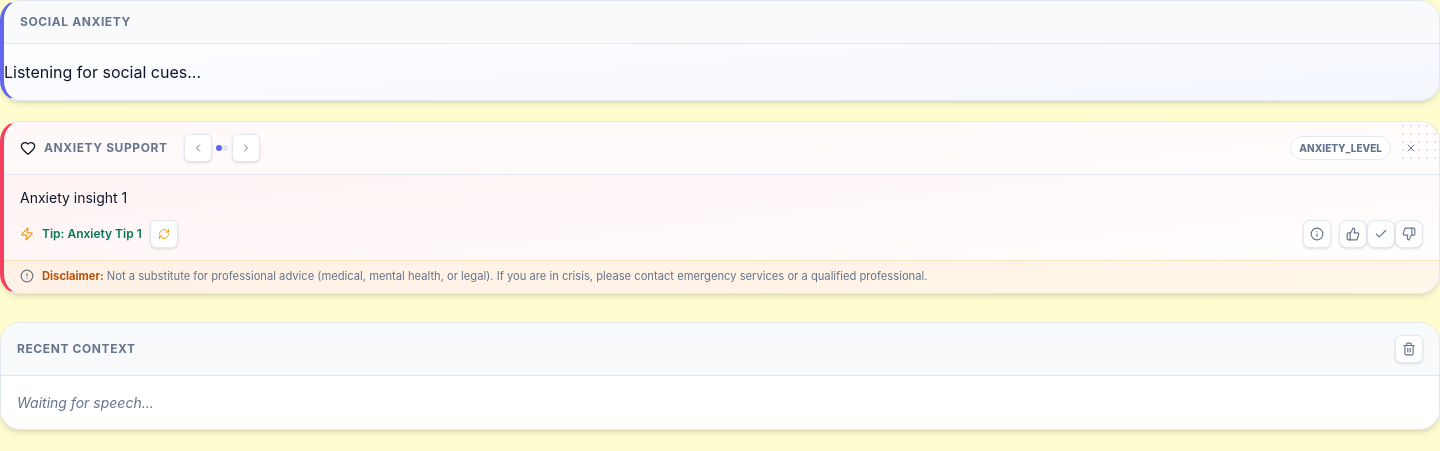
Test: CoachingInsights functionality › maintains separate coping indices for different insights
Expected: the text "Anxiety insight 1" is shown, [20,189,127,206]
Expected: the text "Tip: Anxiety Tip 1" is shown, [42,225,142,243]
Note: Navigate to next coping tip for anxiety insight
Click the button named "Next tip".
click(164, 234)  # box [150,220,178,248]
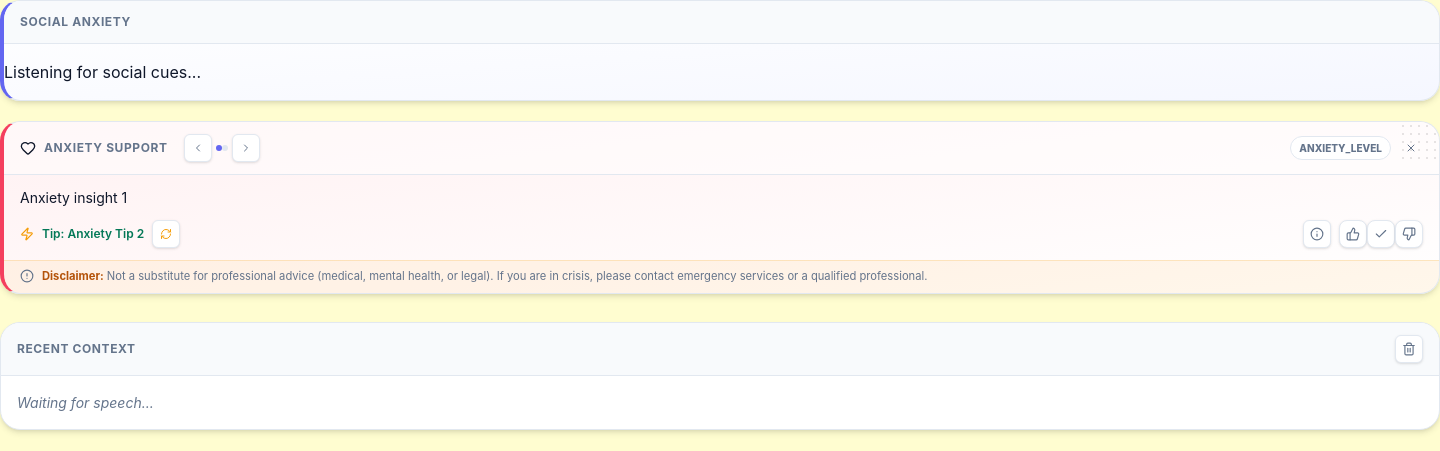
Result: the text "Tip: Anxiety Tip 2" is shown at [42,225,144,243]
Note: Navigate to next insight (should still show anxiety insight 2)
Click the button named "Next insight".
click(246, 148)  # box [232,134,260,162]
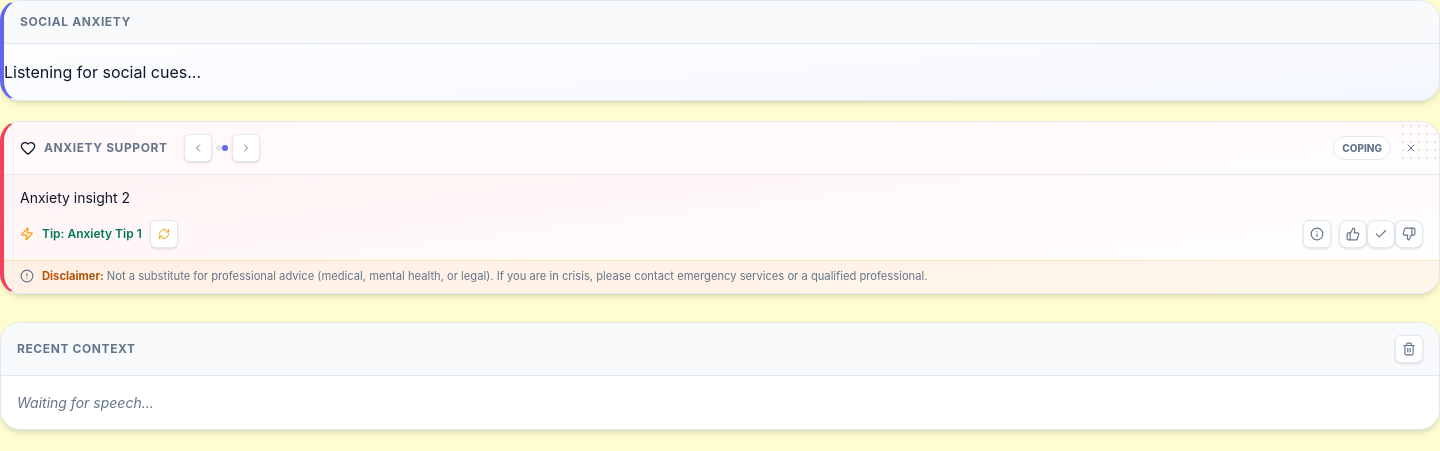
Result: the text "Anxiety insight 2" is shown at [20,189,130,206]
Result: the text "Tip: Anxiety Tip 1" is shown at [42,225,142,243]
Note: Navigate to next coping tip for anxiety insight 2
Click the button named "Next tip".
click(164, 234)  # box [150,220,178,248]
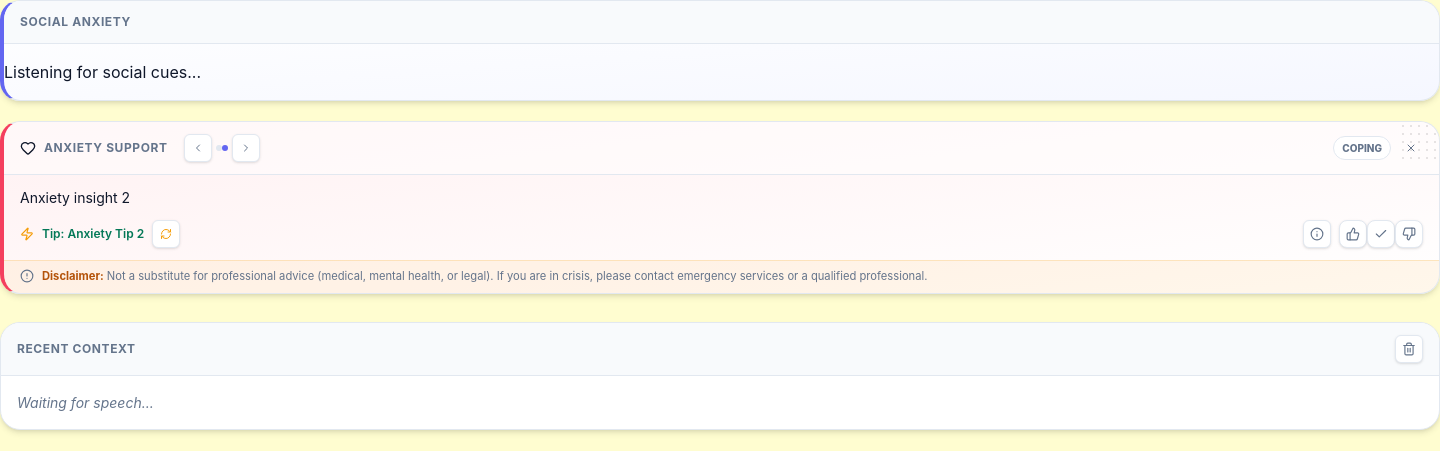
Result: the text "Tip: Anxiety Tip 2" is shown at [42,225,144,243]
Note: Go back to first insight
Click the button named "Previous insight".
click(198, 148)  # box [184,134,212,162]
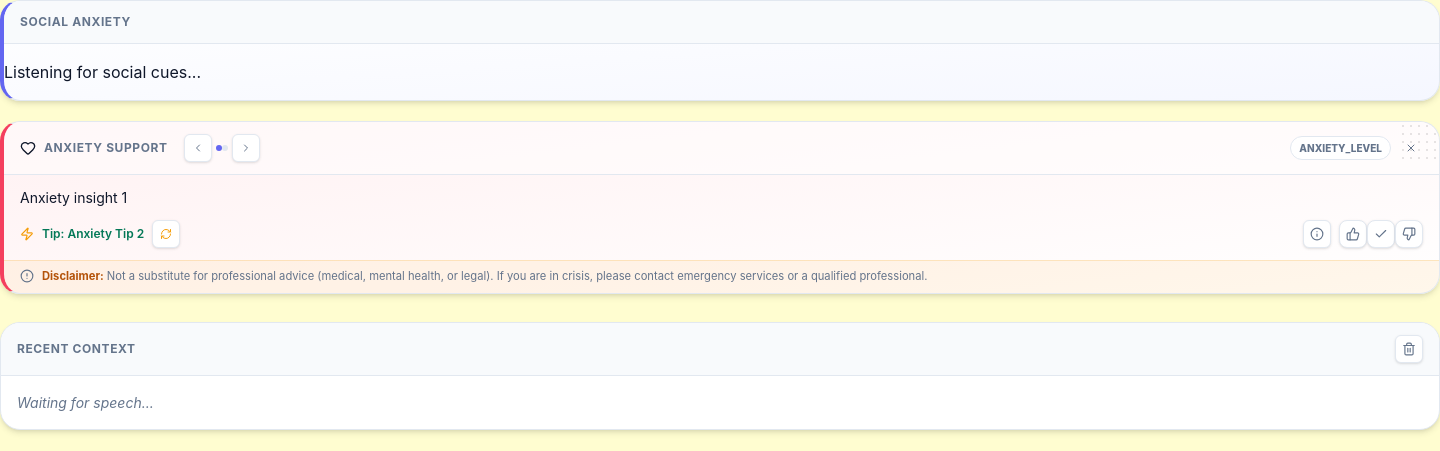
Result: the text "Tip: Anxiety Tip 2" is shown at [42,225,144,243]
Result: the text "Anxiety insight 1" is shown at [20,189,127,206]
